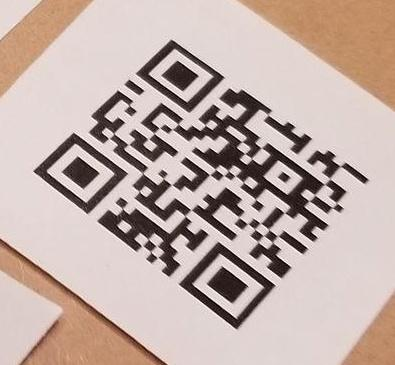qrcode: (33, 38, 371, 330)
